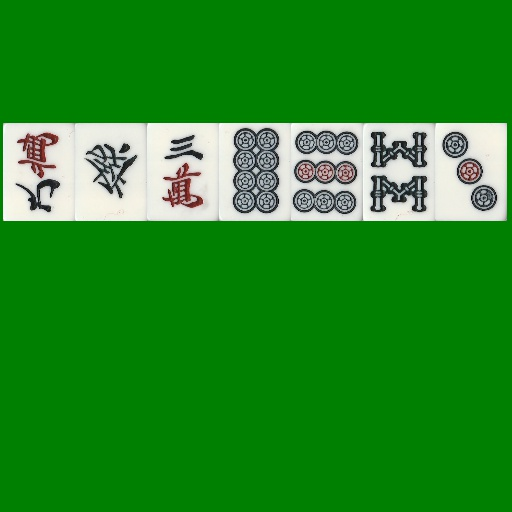3m: (147, 123, 219, 221)
3p: (435, 123, 507, 221)
8p: (219, 123, 291, 221)
8s: (363, 123, 435, 221)
9m: (3, 123, 75, 221)
9p: (291, 123, 363, 221)
hatsu: (75, 123, 147, 221)
